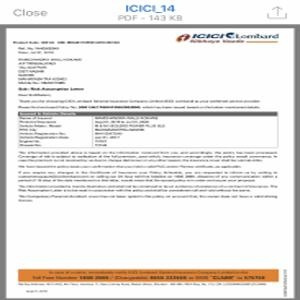image: (176, 29, 279, 45)
table: (14, 110, 281, 151)
text: (12, 36, 263, 110), (14, 150, 279, 205)
